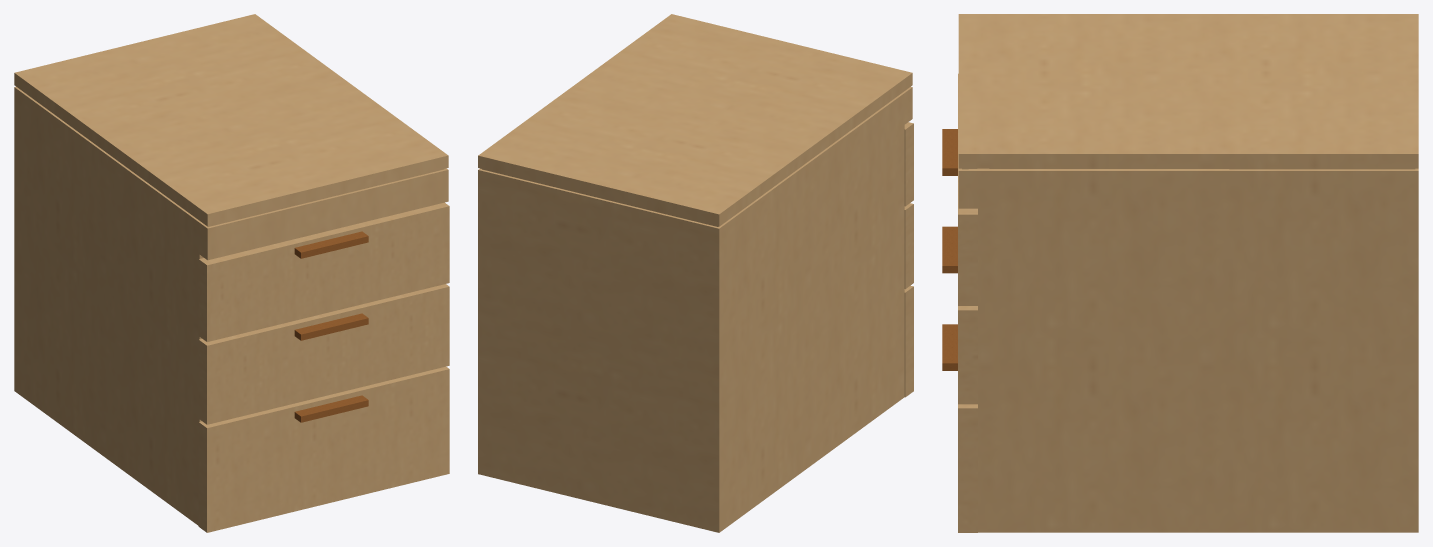
The model's file is Drawer01.fbx.
The picture shows the model from 3 angles, left to right: view 1: azimuth 30°, elevation 25°; view 2: azimuth 150°, elevation 25°; view 3: azimuth 270°, elevation 25°; orthographic projection. The views are drawn at different scales.
Parts seen in each view (by area): view 1: Drawer_Body01, Drawer01_3, Drawer01_2, Drawer01_1; view 2: Drawer_Body01, Drawer01_3, Drawer01_2, Drawer01_1; view 3: Drawer_Body01, Drawer01_3, Drawer01_1, Drawer01_2.
Boxes of the visible parts, left/top/right/bottom form: Drawer_Body01: left=14, top=14, right=448, bottom=525; Drawer01_3: left=198, top=366, right=449, bottom=532; Drawer01_2: left=198, top=284, right=449, bottom=424; Drawer01_1: left=198, top=202, right=449, bottom=341; Drawer_Body01: left=478, top=14, right=912, bottom=532; Drawer01_3: left=904, top=285, right=913, bottom=397; Drawer01_2: left=904, top=203, right=913, bottom=289; Drawer01_1: left=904, top=122, right=913, bottom=206; Drawer_Body01: left=958, top=14, right=1418, bottom=532; Drawer01_3: left=942, top=324, right=977, bottom=532; Drawer01_1: left=942, top=73, right=977, bottom=305; Drawer01_2: left=942, top=226, right=977, bottom=404.
Bounding box in the file's own units: 52.94 × 66.39 × 75.68.
